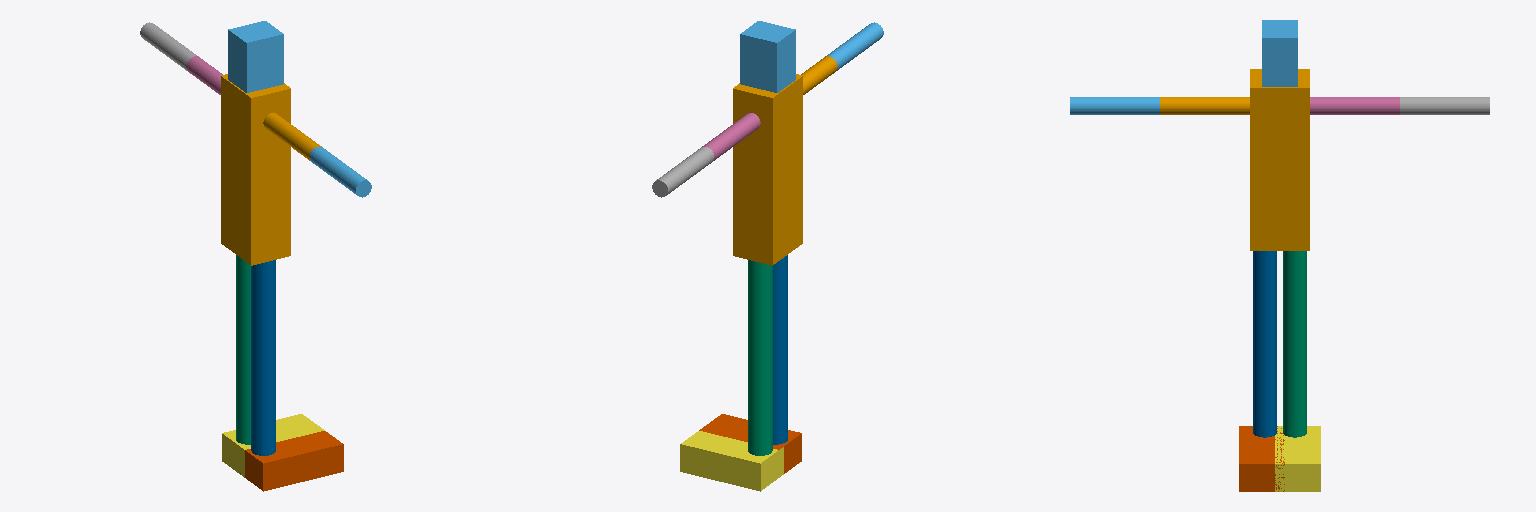
robot.urdf — humanoid:
<?xml version="1.4"?>
<robot name="humanoid">

  <link name="Torso_link">
    <inertial>
        <mass value="10" />
        <inertia ixx="0.33333" ixy="0.0" ixz="0.0" iyy="0.31875" iyz="0.0" izz="0.052083"/>
    </inertial>
    <collision>
    <origin rpy="0.0 0.0 0.0" xyz="0.0 0.0 1.1" />
      <geometry>
        <box size="0.15 0.2 0.6" />
      </geometry>
        </collision>
    <visual>
    <origin rpy="0.0 0.0 0.0" xyz="0.0 0.0 1.1" />
      <geometry>
        <box size="0.15 0.2 0.6" />
      </geometry>
    </visual>
  </link>

  <link name="Head_link">
    <inertial>
        <mass value="1" />
        <inertia ixx="0.0039" ixy="0.0" ixz="0.0" iyy="0.004333" iyz="0.0" izz="0.0028333"/>
    </inertial>
    <collision>
    <origin rpy="0.0 0.0 0.0" xyz="0.0 0.0 0.09" />
      <geometry>
        <box size="0.14 0.12 0.18" />
      </geometry>
        </collision>
    <visual>
    <origin rpy="0.0 0.0 0.0" xyz="0.0 0.0 0.09" />
      <geometry>
        <box size="0.14 0.12 0.18" />
      </geometry>
    </visual>
  </link>


  <link name="LeftLeg_link">
    <inertial>
        <mass value="10" />
        <inertia ixx="0.412333" ixy="0.0" ixz="0.0" iyy="0.412333" iyz="0.0" izz="0.008"/>
    </inertial>
    <collision>
    <origin rpy="0.0 0.0 0.0" xyz="0.0 0.0 -0.35"/>
      <geometry>
        <cylinder radius="0.04" length="0.7" />
      </geometry>
    </collision>
    <visual>
    <origin rpy="0.0 0.0 0.0" xyz="0.0 0.0 -0.35" />
      <geometry>
        <cylinder radius="0.04" length="0.7" />
      </geometry>
    </visual>
  </link>

  <link name="LeftFoot_link">
    <inertial>
        <mass value="100" />
        <inertia ixx="0.2708" ixy="0.0" ixz="0.0" iyy="0.8333" iyz="0.0" izz="0.9375"/>
    </inertial>
    <collision>
    <origin rpy="0.0 0.0 0.0" xyz="0.1 0.0 -0.05"/>
      <geometry>
        <box size="0.3 0.15 0.1" />
      </geometry>
    </collision>
    <visual>
    <origin rpy="0.0 0.0 0.0" xyz="0.1 0.0 -0.05"/>
      <geometry>
        <box size="0.3 0.15 0.1" />
      </geometry>
    </visual>
  </link>

  <link name="RightLeg_link">
    <inertial>
        <mass value="10" />
        <inertia ixx="0.412333" ixy="0.0" ixz="0.0" iyy="0.412333" iyz="0.0" izz="0.008"/>
    </inertial>
    <collision>
    <origin rpy="0.0 0.0 0.0" xyz="0.0 -0.0 -0.35" />
      <geometry>
        <cylinder radius="0.04" length="0.7" />
      </geometry>
    </collision>
    <visual>
    <origin rpy="0.0 0.0 0.0" xyz="0.0 -0.0 -0.35" />
      <geometry>
        <cylinder radius="0.04" length="0.7" />
      </geometry>
    </visual>
  </link>

  <link name="RightFoot_link">
    <inertial>
        <mass value="100" />
        <inertia ixx="0.2708" ixy="0.0" ixz="0.0" iyy="0.8333" iyz="0.0" izz="0.9375"/>
    </inertial>
    <collision>
    <origin rpy="0.0 0.0 0.0" xyz="0.1 0.0 -0.05"/>
      <geometry>
        <box size="0.3 0.15 0.1" />
      </geometry>
    </collision>
    <visual>
    <origin rpy="0.0 0.0 0.0" xyz="0.1 0.0 -0.05"/>
      <geometry>
        <box size="0.3 0.15 0.1" />
      </geometry>
    </visual>
  </link>

  <link name="LeftUpperArm_link">
    <inertial>
        <mass value="1" />
        <inertia ixx="0.007725" ixy="0.0" ixz="0.0" iyy="0.007725" iyz="0.0" izz="0.00045"/>
    </inertial>
    <collision>
    <origin rpy="1.5708 0.0 0.0" xyz="0.0 0.15 0.0" />
      <geometry>
        <cylinder radius="0.03" length="0.3" />
      </geometry>
    </collision>
    <visual>
    <origin rpy="1.5708 0.0 0.0" xyz="0.0 0.15 0.0" />
      <geometry>
        <cylinder radius="0.03" length="0.3" />
      </geometry>
    </visual>
  </link>

  <link name="LeftForeArm_link">
    <inertial>
        <mass value="1" />
        <inertia ixx="0.007725" ixy="0.0" ixz="0.0" iyy="0.007725" iyz="0.0" izz="0.00045"/>
    </inertial>
    <collision>
    <origin rpy="1.5708 0.0 0.0" xyz="0.0 0.15 0.0" />
      <geometry>
        <cylinder radius="0.03" length="0.3" />
      </geometry>
    </collision>
    <visual>
    <origin rpy="1.5708 0.0 0.0" xyz="0.0 0.15 0.0" />
      <geometry>
        <cylinder radius="0.03" length="0.3" />
      </geometry>
    </visual>
  </link>

  <link name="RightUpperArm_link">
    <inertial>
        <mass value="1" />
        <inertia ixx="0.007725" ixy="0.0" ixz="0.0" iyy="0.007725" iyz="0.0" izz="0.00045"/>
    </inertial>
    <collision>
    <origin rpy="1.5708 0.0 0.0" xyz="0.0 -0.15 0.0" />
      <geometry>
        <cylinder radius="0.03" length="0.3" />
      </geometry>
    </collision>
    <visual>
    <origin rpy="1.5708 0.0 0.0" xyz="0.0 -0.15 0.0" />
      <geometry>
        <cylinder radius="0.03" length="0.3" />
      </geometry>
    </visual>
  </link>

  <link name="RightForeArm_link">
    <inertial>
        <mass value="1" />
        <inertia ixx="0.007725" ixy="0.0" ixz="0.0" iyy="0.007725" iyz="0.0" izz="0.00045"/>
    </inertial>
    <collision>
    <origin rpy="1.5708 0.0 0.0" xyz="0.0 -0.15 0.0" />
      <geometry>
        <cylinder radius="0.03" length="0.3" />
      </geometry>
    </collision>
    <visual>
    <origin rpy="1.5708 0.0 0.0" xyz="0.0 -0.15 0.0" />
      <geometry>
        <cylinder radius="0.03" length="0.3" />
      </geometry>
    </visual>
  </link>

  <!-- <joint name="base_to_second_joint" type="continuous">
    <parent link="base_link"/>
    <child link="second_link"/>
    <axis xyz="1 0 0"/>
    <origin xyz="0.0 0.0 0.2" rpy="0.0 0.0 0.0"/> 
  </joint> -->



  <joint name="LeftLeg_joint" type="prismatic">
  <origin xyz="0.0 0.05 0.8" rpy="0.0 0.0 0.0"/> 
    <parent link="Torso_link"/>
    <child link="LeftLeg_link"/>
    <axis xyz="0 0 1"/>
    <limit effort="30000" velocity="100.0" lower="-0.3" upper="0.3" />
    <dnamics damping="0.0" friction="0.0" />
  </joint>

  <joint name="RightLeg_joint" type="prismatic">
  <origin xyz="0.0 -0.05 0.8" rpy="0.0 0.0 0.0"/> 
    <parent link="Torso_link"/>
    <child link="RightLeg_link"/>
    <axis xyz="0 0 1"/>
    <limit effort="30000" velocity="100.0" lower="-0.3" upper="0.3" />
    <dnamics damping="0.0" friction="0.0" />
    <mimic joint="LeftLeg_joint" multiplier="1" offset="0"/>
  </joint>

  <joint name="LeftUpperArm_joint" type="revolute">
  <origin xyz="0.0 0.1 1.3" rpy="0.0 0.0 0.0"/> 
    <parent link="Torso_link"/>
    <child link="LeftUpperArm_link"/>
    <axis xyz="1 0 0"/>
    <limit effort="30" velocity="1.0" lower="-0.0" upper="0.0" />
    <dynamics damping="10.0" friction="0.0"/>
  </joint>

  <joint name="LeftForeArm_joint" type="revolute">
  <origin xyz="0.0 0.3 0.0" rpy="0.0 0.0 0.0"/> 
    <parent link="LeftUpperArm_link"/>
    <child link="LeftForeArm_link"/>
    <axis xyz="1 0 0"/>
    <limit effort="30000" velocity="10000.0" lower="-0.5" upper="0.5" />
  </joint>

  <joint name="RightUpperArm_joint" type="revolute" >
  <origin xyz="0.0 -0.1 1.3" rpy="0.0 0.0 0.0"/> 
    <parent link="Torso_link"/>
    <child link="RightUpperArm_link"/>
    <axis xyz="1 0 0"/>
    <limit effort="30" velocity="1.0" lower="-0.0" upper="0.0" />
    <dynamics damping="10.0" friction="0.0"/>
  </joint>

  <joint name="RightForeArm_joint" type="revolute" >
  <origin xyz="0.0 -0.3 0.0" rpy="0.0 0.0 0.0"/> 
    <parent link="RightUpperArm_link"/>
    <child link="RightForeArm_link"/>
    <axis xyz="1 0 0"/>
    <limit effort="30000" velocity="10000.0" lower="-0.5" upper="0.5" />
  </joint>

  <joint name="Head_joint" type="fixed">
  <origin xyz="0.0 0.0 1.4" rpy="0.0 0.0 0.0"/> 
    <parent link="Torso_link"/>
    <child link="Head_link"/>
    <axis xyz="0 0 1"/>
  </joint>

  <joint name="LeftFoot_joint" type="fixed">
  <origin xyz="0.0 0.01 -0.7" rpy="0.0 0.0 0.0"/> 
    <parent link="LeftLeg_link"/>
    <child link="LeftFoot_link"/>
    <axis xyz="0 0 1"/>
  </joint>

  <joint name="RightFoot_joint" type="fixed">
  <origin xyz="0.0 -0.01 -0.7" rpy="0.0 0.0 0.0"/> 
    <parent link="RightLeg_link"/>
    <child link="RightFoot_link"/>
    <axis xyz="0 0 1"/>
  </joint>


   <!--                GAZEBO RELATED PART                             -->

  <!-- ROS Control plugin for Gazebo -->
  <gazebo>
    <plugin name="gazebo_ros_control_humanoid" filename="libgazebo_ros_control.so">
      <robotNamespace>/humanoid</robotNamespace>
      <robotParam>humanoid/robot_description</robotParam>
    </plugin>
  </gazebo>


  <!-- <transmission name="rightleg_trans">
    <type>transmission_interface/SimpleTransmission</type>
    <actuator name="motor1">
      <mechanicalReduction>1</mechanicalReduction>
    </actuator>
    <joint name="RightLeg_joint">
      <hardwareInterface>hardware_interface/VelocityJointInterface</hardwareInterface>
    </joint>
  </transmission> -->

  <transmission name="leftleg_trans">
    <type>transmission_interface/SimpleTransmission</type>
    <actuator name="motor2">
      <mechanicalReduction>1</mechanicalReduction>
    </actuator>
    <joint name="LeftLeg_joint">
      <hardwareInterface>VelocityJointInterface</hardwareInterface>
    </joint>
  </transmission>

</robot>

--- What the picture shows (computed from the rendered views, not written in the file) ---
3 views of the same robot in one strip: view 1: azimuth 30°, elevation 25°; view 2: azimuth 150°, elevation 25°; view 3: azimuth 270°, elevation 25° (orthographic).
Model humanoid with 10 links and 9 joints (4 revolute, 2 prismatic, 3 fixed), rooted at Torso_link, posed every joint at zero.
Visible links, largest first — view 1: Torso_link, RightLeg_link, RightFoot_link, Head_link, LeftLeg_link, LeftFoot_link, RightForeArm_link, RightUpperArm_link, LeftForeArm_link, LeftUpperArm_link; view 2: Torso_link, LeftLeg_link, LeftFoot_link, Head_link, RightLeg_link, RightFoot_link, LeftForeArm_link, LeftUpperArm_link, RightForeArm_link, RightUpperArm_link; view 3: Torso_link, LeftLeg_link, RightLeg_link, LeftFoot_link, Head_link, RightFoot_link, LeftUpperArm_link, LeftForeArm_link, RightUpperArm_link, RightForeArm_link.
Boxes of the visible links, x1,y1,x2,y2 form: Torso_link: [221, 74, 290, 265]; RightLeg_link: [251, 260, 275, 455]; RightFoot_link: [240, 431, 343, 491]; Head_link: [228, 21, 283, 92]; LeftLeg_link: [236, 255, 250, 444]; LeftFoot_link: [222, 414, 324, 477]; RightForeArm_link: [310, 147, 371, 197]; RightUpperArm_link: [263, 113, 321, 160]; LeftForeArm_link: [140, 22, 198, 70]; LeftUpperArm_link: [186, 56, 222, 94]; Torso_link: [733, 74, 802, 265]; LeftLeg_link: [748, 260, 772, 455]; LeftFoot_link: [680, 431, 783, 491]; Head_link: [740, 21, 795, 92]; RightLeg_link: [773, 255, 787, 444]; RightFoot_link: [699, 414, 801, 473]; LeftForeArm_link: [652, 147, 713, 197]; LeftUpperArm_link: [702, 113, 760, 160]; RightForeArm_link: [825, 22, 883, 70]; RightUpperArm_link: [801, 56, 837, 94]; Torso_link: [1250, 69, 1309, 250]; LeftLeg_link: [1283, 251, 1306, 437]; RightLeg_link: [1253, 251, 1276, 437]; LeftFoot_link: [1275, 426, 1320, 491]; Head_link: [1262, 20, 1297, 86]; RightFoot_link: [1239, 426, 1284, 491]; LeftUpperArm_link: [1310, 97, 1399, 114]; LeftForeArm_link: [1400, 97, 1489, 114]; RightUpperArm_link: [1160, 97, 1249, 114]; RightForeArm_link: [1070, 97, 1159, 114].
Size in the robot's own frame: 0.325 by 1.4 by 1.58 metres.
Geometry: primitives only (box / cylinder / sphere), no mesh files.